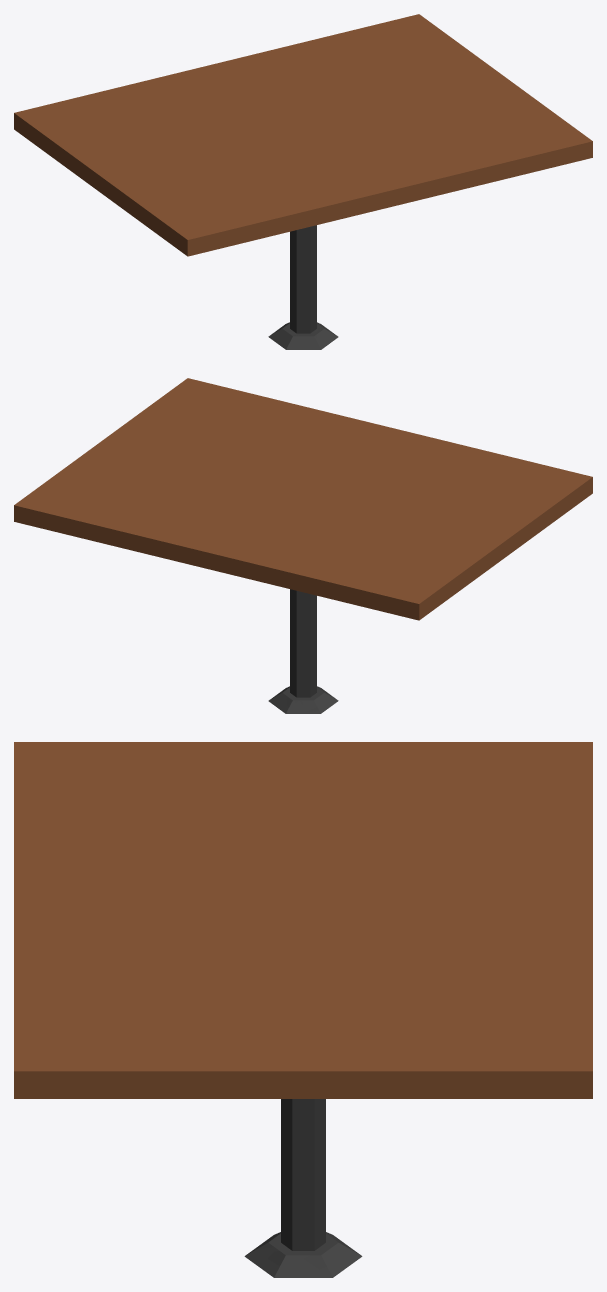
Rendered from shattered_boothtable.fbx.
The picture shows the model from 3 angles, top to bottom: view 1: azimuth 30°, elevation 25°; view 2: azimuth 150°, elevation 25°; view 3: azimuth 270°, elevation 25°; orthographic projection. The views are drawn at different scales.
Visible parts, largest first — view 1: Cube.001, Cube.001_cell.006, Cube.001_cell.002, Cube.001_cell, Cylinder, Cube.001_cell.001, Cube.001_cell.004, Cylinder_cell.009; view 2: Cube.001, Cube.001_cell.006, Cube.001_cell.002, Cylinder, Cube.001_cell.007, Cylinder_cell.006, Cube.001_cell.003; view 3: Cube.001, Cube.001_cell.002, Cube.001_cell.006, Cube.001_cell, Cube.001_cell.004, Cube.001_cell.005, Cube.001_cell.007, Cylinder, Cylinder_cell.008, Cylinder_cell.007.
Boxes of the visible parts, box(x1,y1,x2,y2) form: Cube.001: box(14, 14, 592, 256); Cube.001_cell.006: box(217, 14, 505, 126); Cube.001_cell.002: box(14, 63, 302, 176); Cube.001_cell: box(101, 139, 390, 247); Cylinder: box(268, 225, 338, 349); Cube.001_cell.001: box(187, 200, 389, 256); Cube.001_cell.004: box(372, 137, 584, 198); Cylinder_cell.009: box(303, 240, 319, 337); Cube.001: box(14, 378, 592, 620); Cube.001_cell.006: box(14, 442, 302, 561); Cube.001_cell.002: box(217, 491, 498, 602); Cylinder: box(268, 590, 338, 713); Cube.001_cell.007: box(14, 514, 216, 570); Cylinder_cell.006: box(287, 602, 303, 701); Cube.001_cell.003: box(217, 563, 398, 609); Cube.001: box(14, 742, 592, 1098); Cube.001_cell.002: box(304, 742, 592, 906); Cube.001_cell.006: box(304, 907, 592, 1084); Cube.001_cell: box(14, 742, 302, 906); Cube.001_cell.004: box(14, 907, 302, 1084); Cube.001_cell.005: box(14, 1085, 302, 1098); Cube.001_cell.007: box(304, 1085, 592, 1098); Cylinder: box(256, 1099, 362, 1277); Cylinder_cell.008: box(282, 1099, 303, 1257); Cylinder_cell.007: box(304, 1099, 330, 1257).
Bounding box in the file's own units: 123 × 82.26 × 166.
